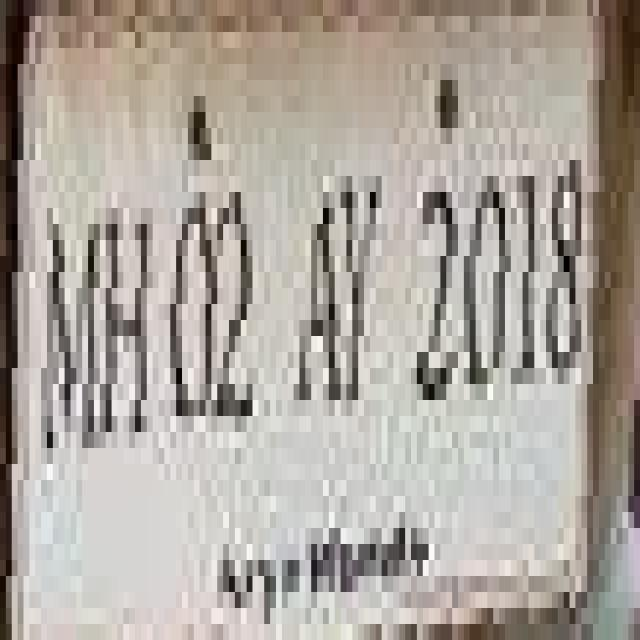license_plate: (0, 16, 617, 544)
